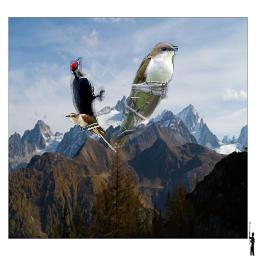Cuckoo: (112, 41, 178, 148), (65, 113, 118, 153)
Woodpecker: (70, 57, 105, 133)
